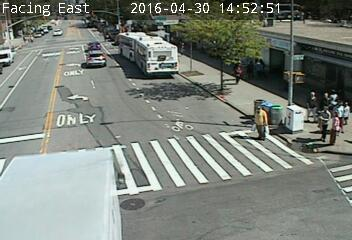neg: (52, 132, 89, 180), (29, 36, 57, 73), (1, 181, 23, 210), (189, 126, 209, 152), (91, 45, 109, 68), (155, 46, 172, 70)
pos: (247, 105, 274, 141), (294, 88, 321, 123), (326, 111, 351, 147), (223, 57, 243, 85)
